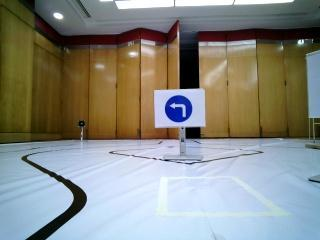left: (157, 93, 200, 121)
